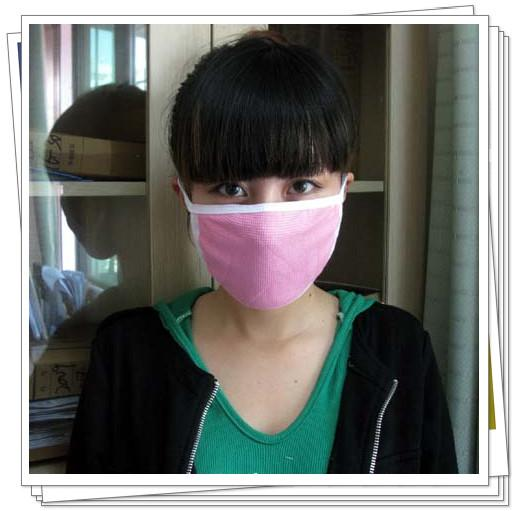OK: (195, 166, 343, 307)
